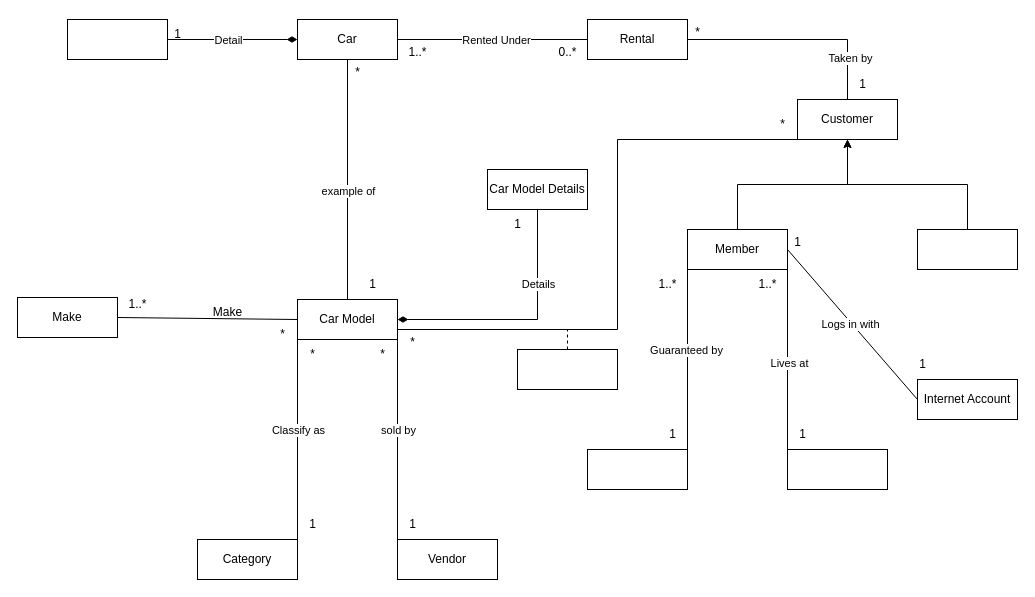
The diagram is 1035 pixels wide and 597 high, and some of its shapes have lost their labels. The shapes that lost their labels are listed below. From the top down, each one's centre as x and y in pixels, then its label:
At (117,39): "Car Detail".
At (967,249): "NonMember".
At (567,369): "Reservation".
At (637,469): "Credit Card".
At (837,469): "Address".
